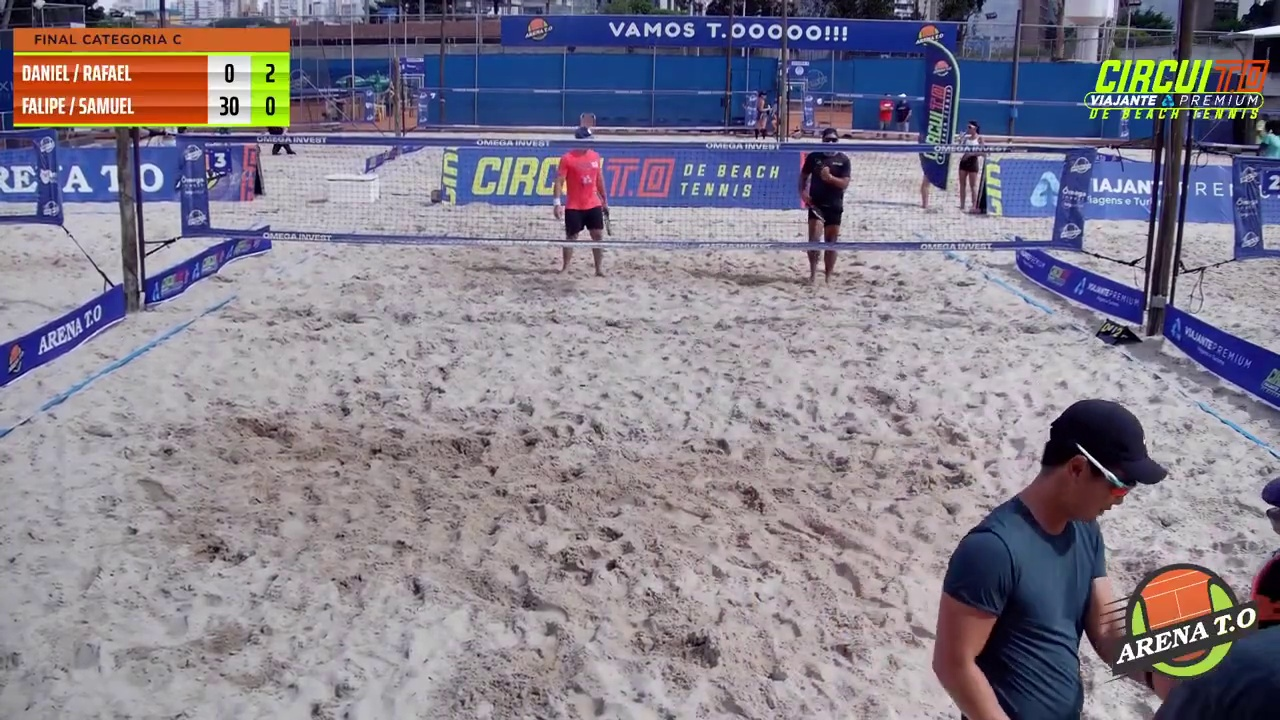court_line: (640, 0, 808, 234)
